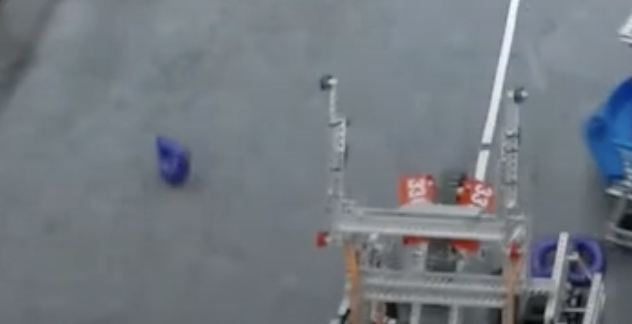ring: (153, 134, 192, 186), (565, 236, 606, 284), (533, 238, 573, 276)
